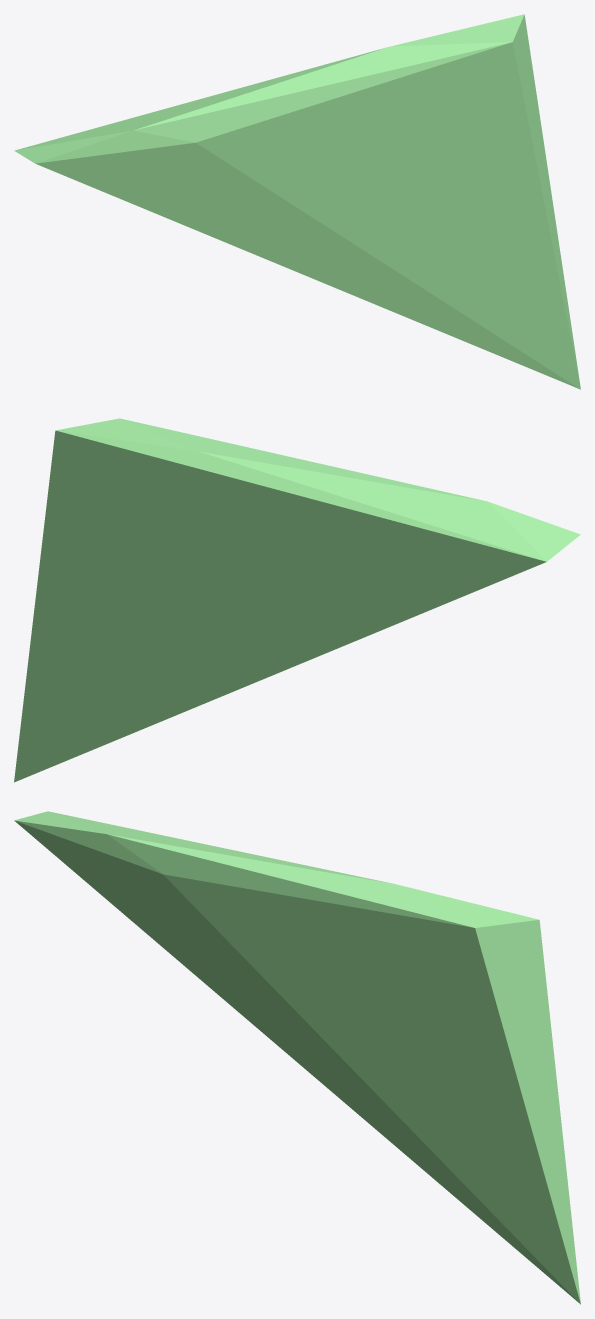
File: linkhou_robot_base_coll_3.dae
The picture shows the model from 3 angles, top to bottom: view 1: azimuth 30°, elevation 25°; view 2: azimuth 150°, elevation 25°; view 3: azimuth 330°, elevation 25°; orthographic projection. The views are drawn at different scales.
Visible parts, largest first — view 1: Node_0000029808437810; view 2: Node_0000029808437810; view 3: Node_0000029808437810.
Boxes of the visible parts, <box> form: Node_0000029808437810: <box>14,14,580,389</box>; Node_0000029808437810: <box>14,418,580,782</box>; Node_0000029808437810: <box>14,811,580,1304</box>.
Bounding box in the file's own units: 0.1624 × 0.1067 × 0.0155.
